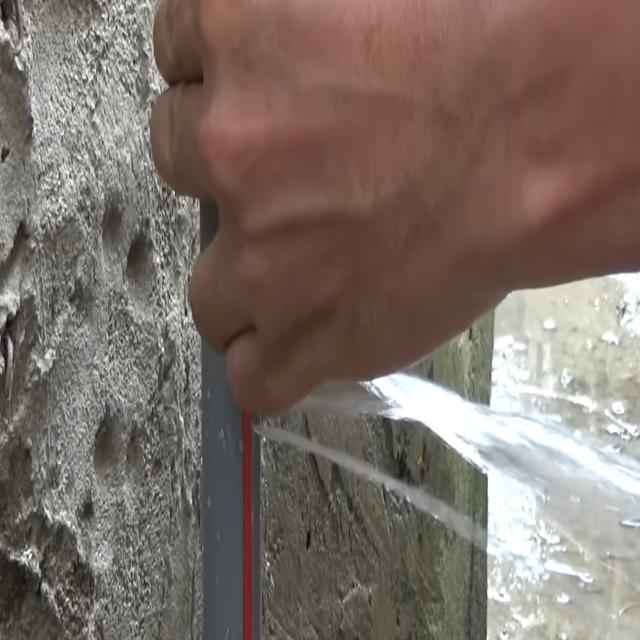leak: (300, 373, 640, 564), (255, 424, 488, 551)
